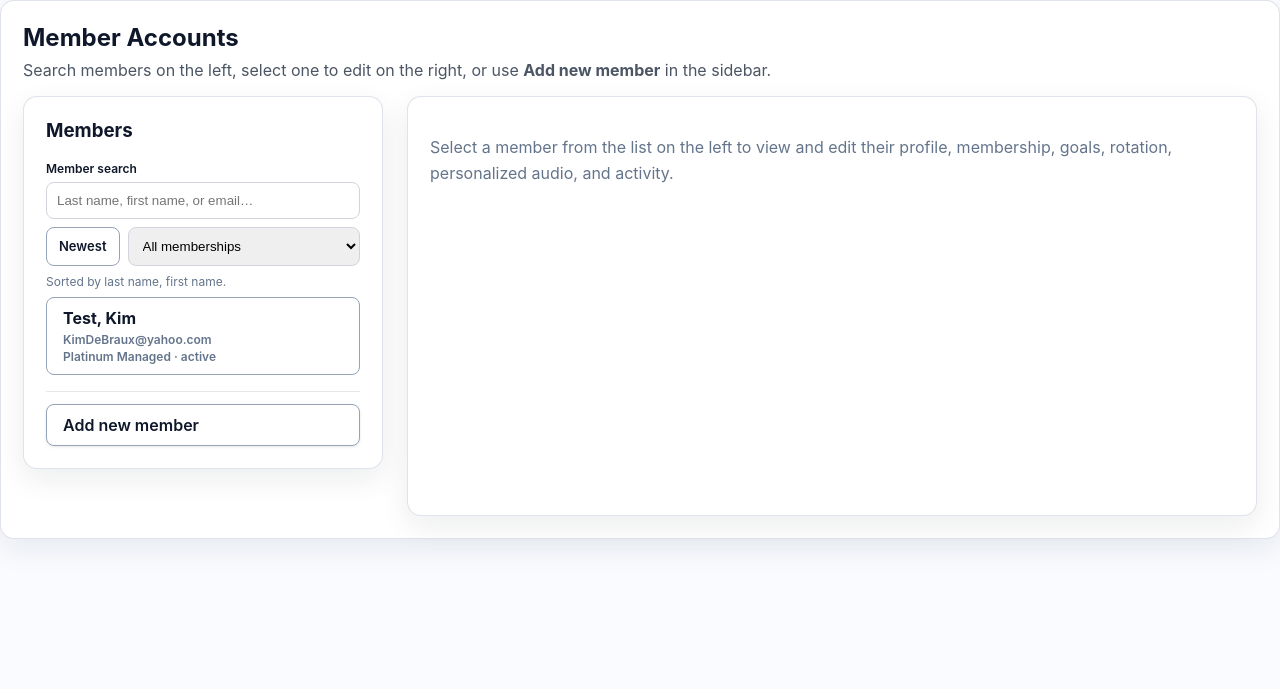
Scenario: AdminUsers Platinum Managed rotation › Add at end stays available after loading 16 saved slots (real accounts exceeded old 10-slot cap)
The image size is (1280, 689).
Click the button "Test, Kim KimDeBraux@yahoo.com Platinum Managed · active" at (203,336), box [46,297,360,375]
(page scrolled)
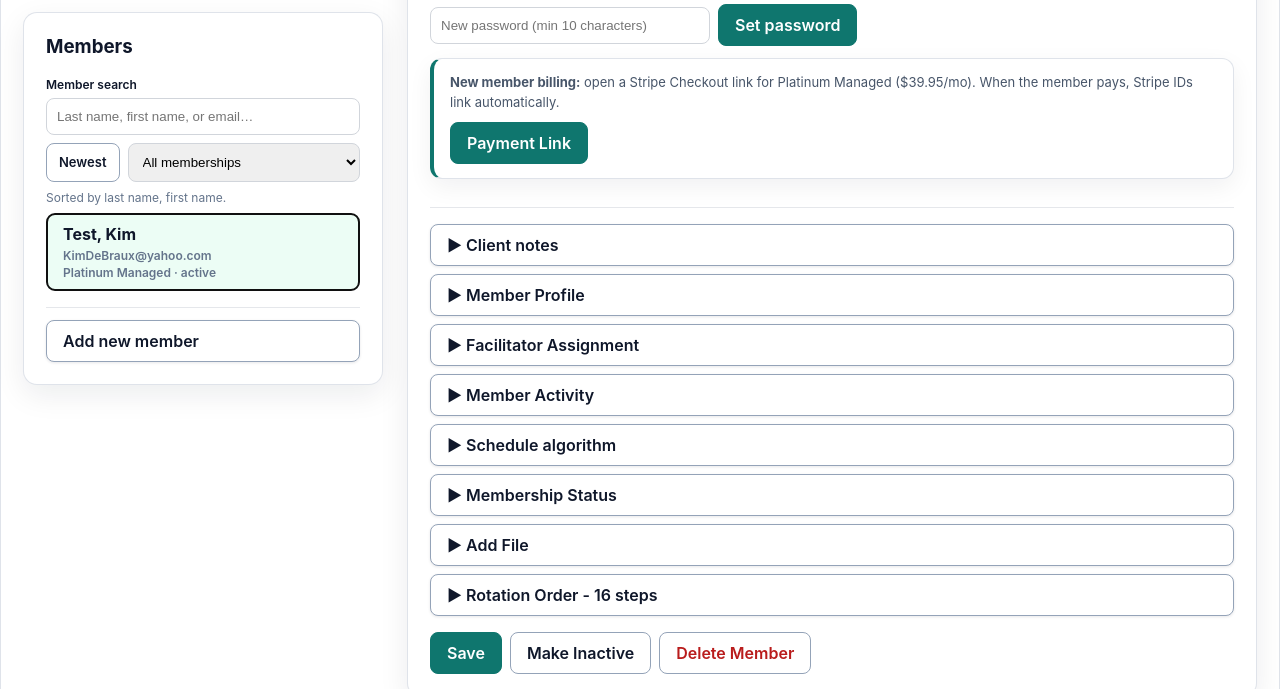
Click the button "▶ Rotation Order - 16 steps" at (520,595), box [430,574,1234,616]
(page scrolled)
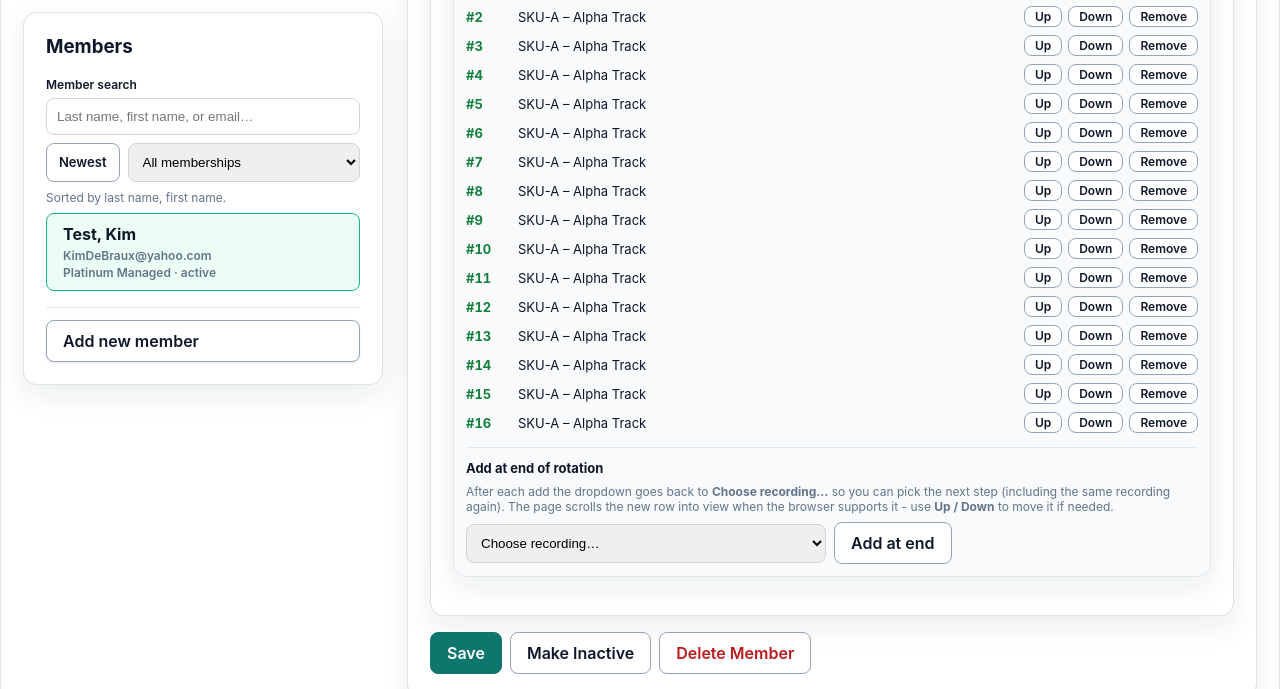
Select "SKU-B - Beta Track" in the dropdown named "choose audio to add at end of rotation" at (646,543), box [466,524,826,563]
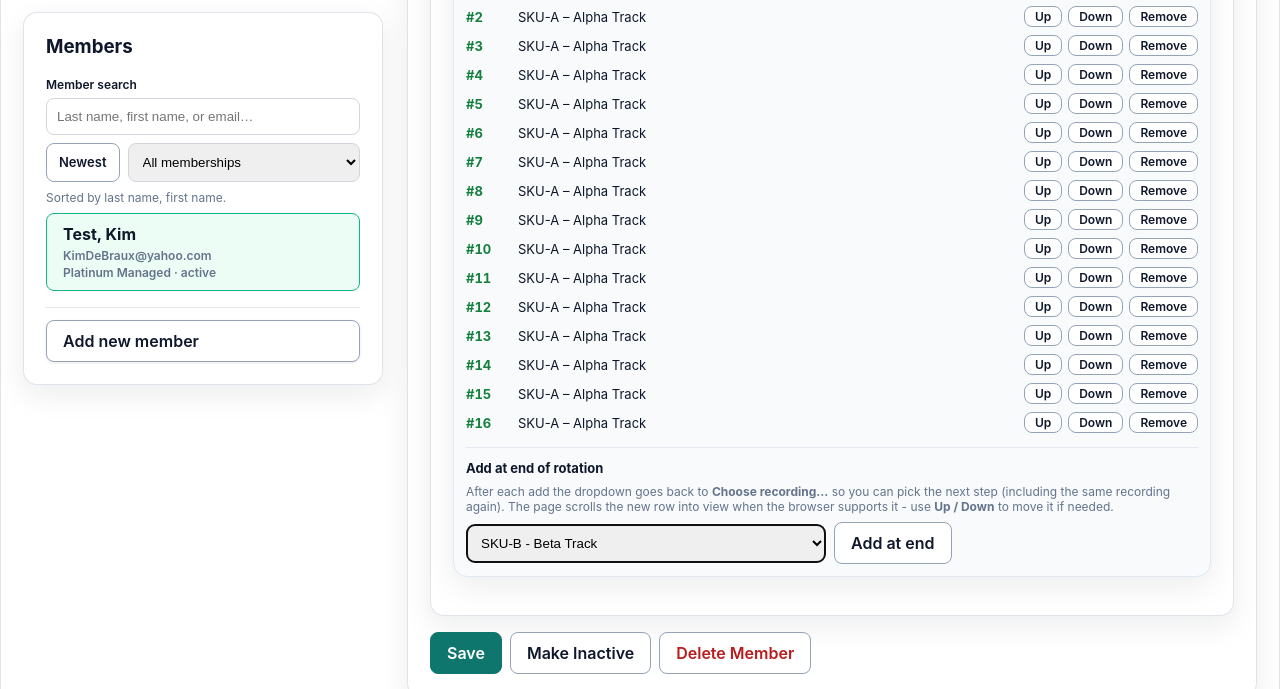
Click the button "Add at end" at (893,543), box [834,522,952,564]
(page scrolled)
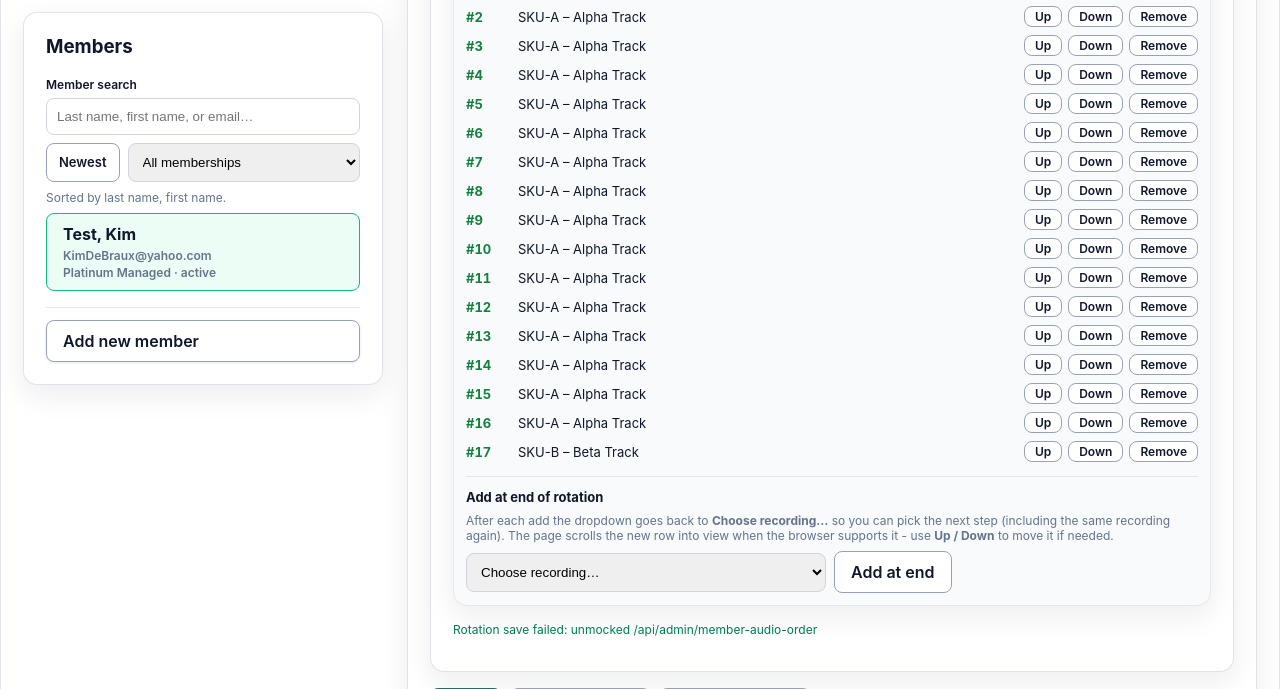
Expected: the text named "step 17" is shown, [466,444,491,460]
